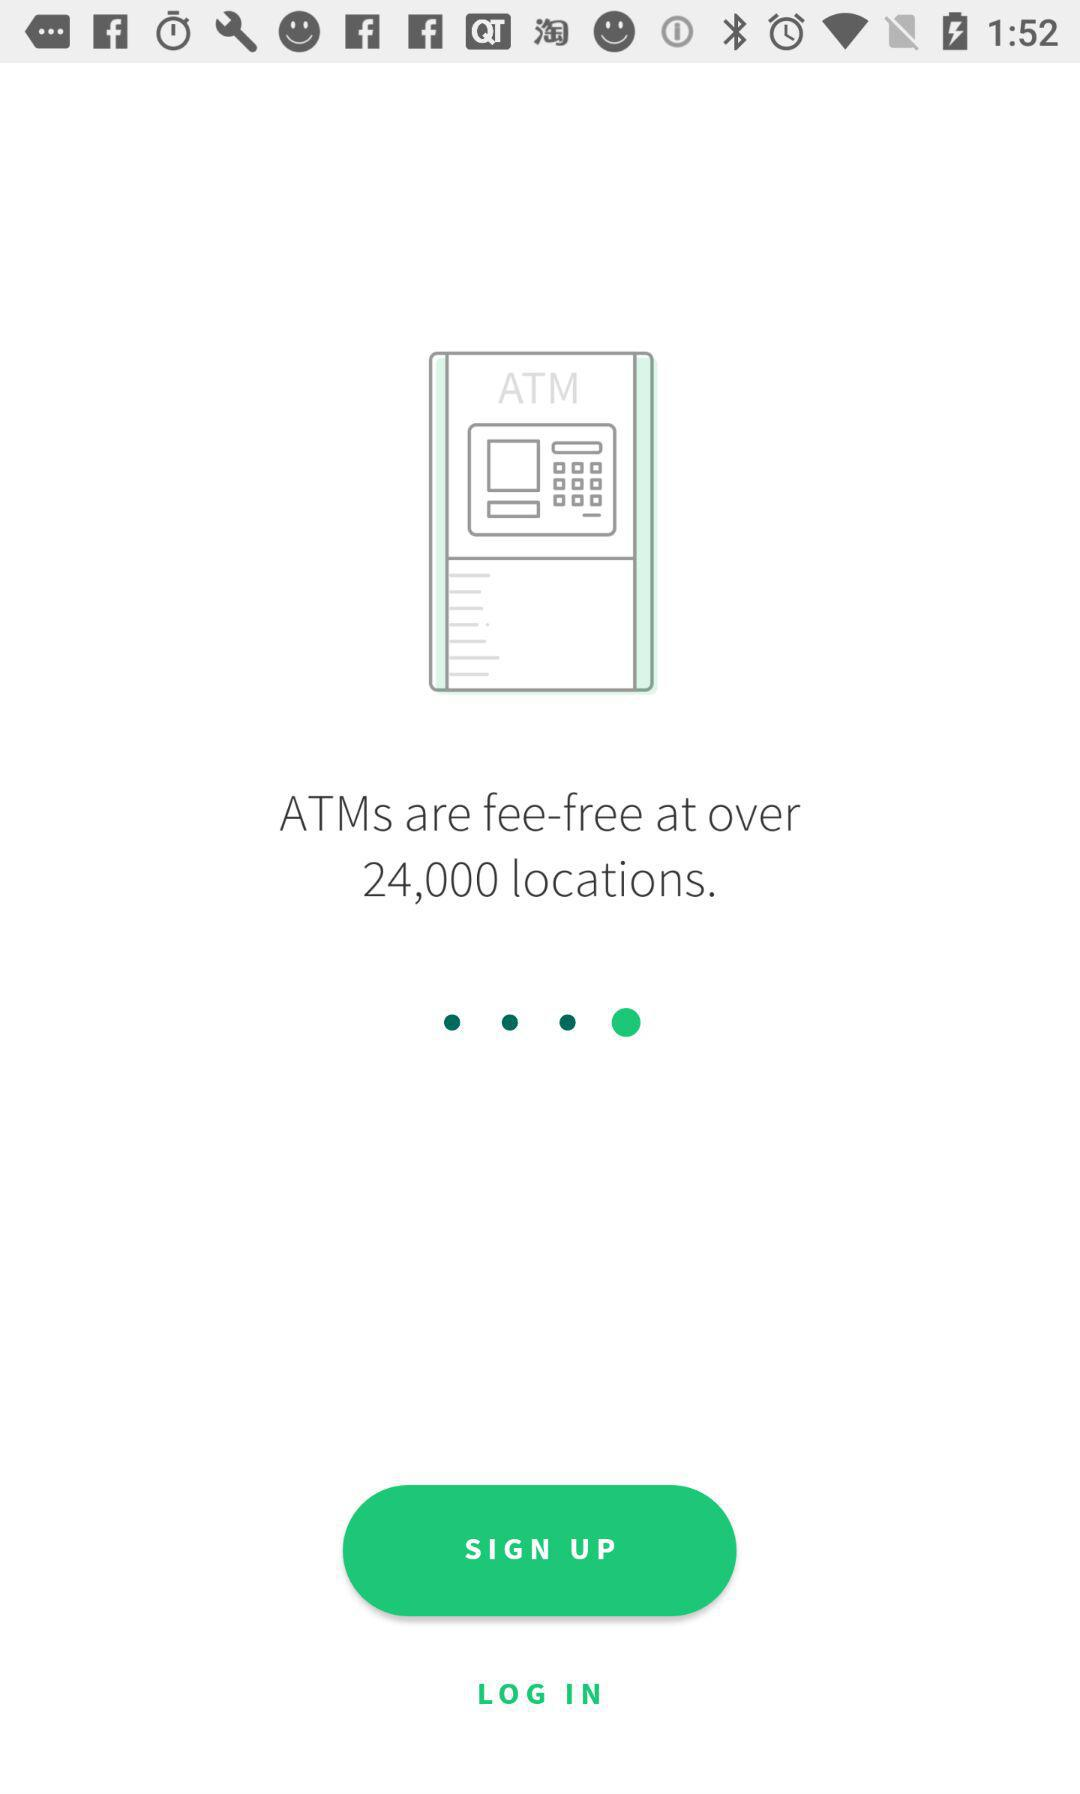Image: (428, 351, 656, 693)
PageIndicator: (443, 1008, 642, 1039)
Text: (279, 791, 802, 906), (478, 1683, 600, 1706)
TextButton: (343, 1485, 738, 1617)
UpperTaskBar: (1, 1, 1080, 64)
